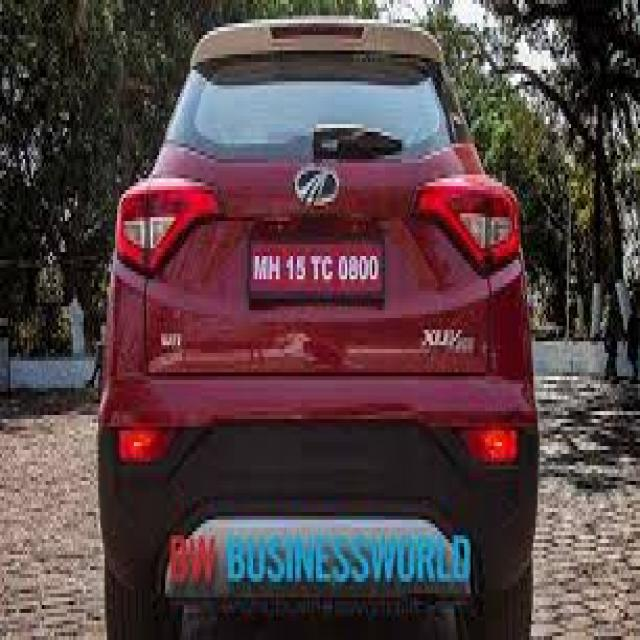Number-Plate: (249, 237, 381, 296)
